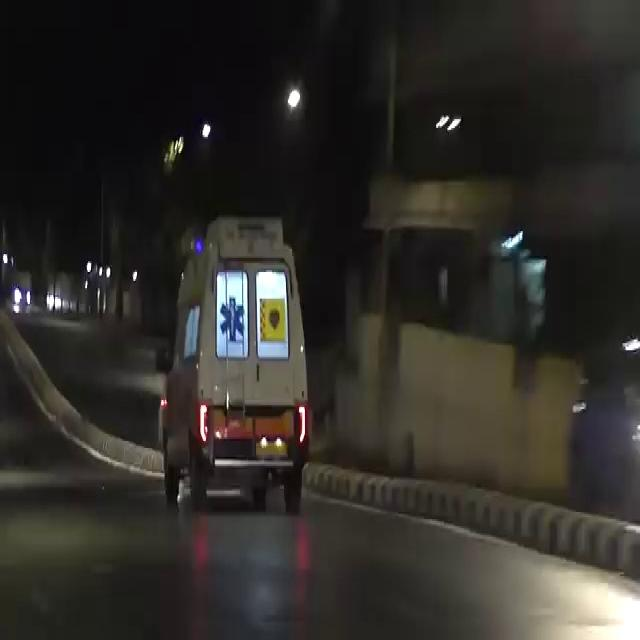ambulance: (166, 226, 329, 499)
